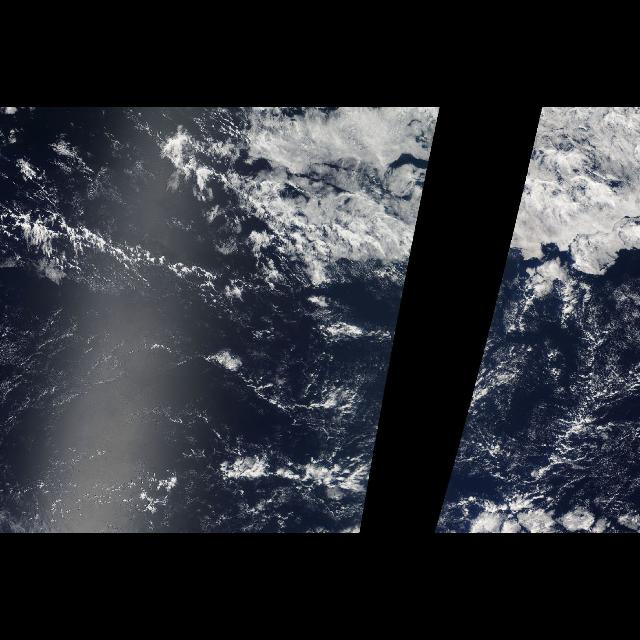Fish: (1, 199, 249, 307)
